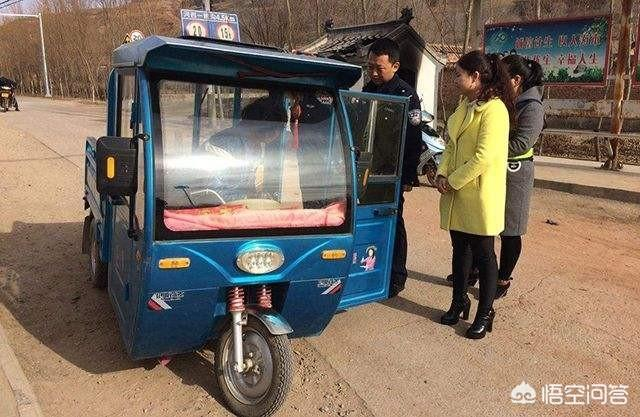driver: (213, 87, 290, 258)
only_driver: (90, 47, 373, 390)
